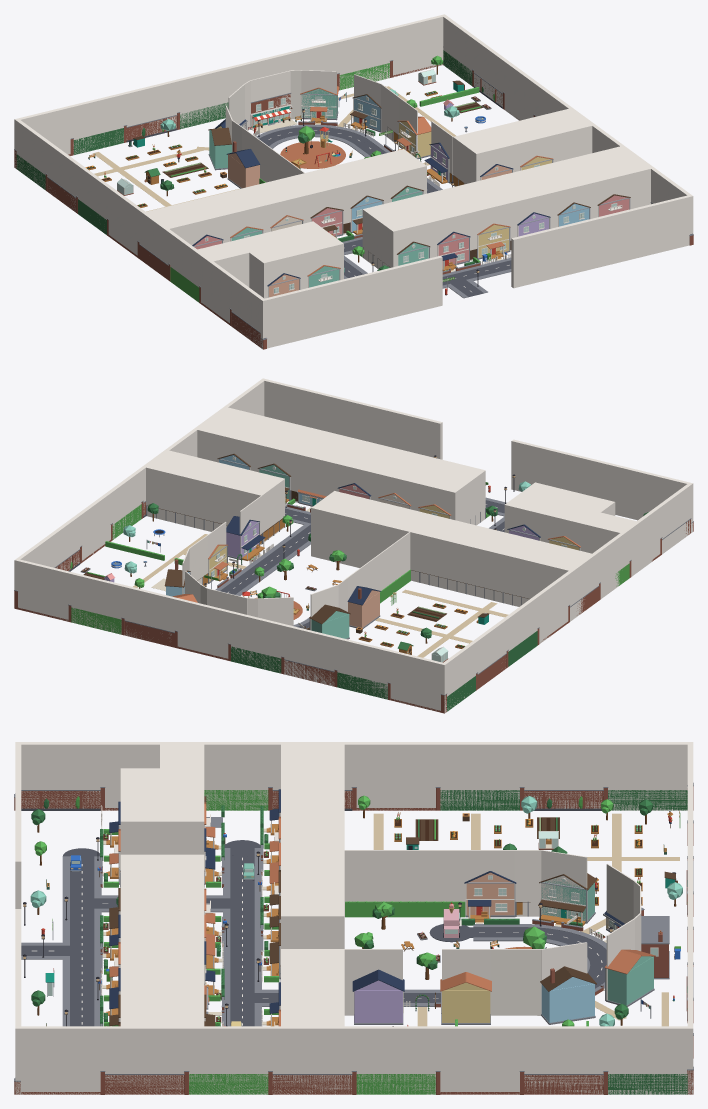
File: CatCafe_Neighbourhood_SetV32.glb
3 renders of one model, top to bottom at view 1: azimuth 30°, elevation 25°; view 2: azimuth 150°, elevation 25°; view 3: azimuth 270°, elevation 25°, orthographic. The views are drawn at different scales.
Visible parts, largest first — view 1: CatCafe_Neighbourhood_SetV32_053_Walls_Barrier, CatCafe_Neighbourhood_SetV32_358_Blocks_Barrier, CatCafe_Neighbourhood_SetV32, CatCafe_Neighbourhood_SetV32_220_HouseFrontA, CatCafe_Neighbourhood_SetV32_226_HouseFrontC, CatCafe_Neighbourhood_SetV32_214_HouseFrontC, CatCafe_Neighbourhood_SetV32_229_CornerShop, CatCafe_Neighbourhood_SetV32_064_HouseFrontC, CatCafe_Neighbourhood_SetV32_067_HouseFrontA, CatCafe_Neighbourhood_SetV32_223_HouseFrontA, CatCafe_Neighbourhood_SetV32_357_Trees, CatCafe_Neighbourhood_SetV32_236_HouseFrontB (+13 smaller); view 2: CatCafe_Neighbourhood_SetV32_358_Blocks_Barrier, CatCafe_Neighbourhood_SetV32_053_Walls_Barrier, CatCafe_Neighbourhood_SetV32, CatCafe_Neighbourhood_SetV32_211_HouseFrontB, CatCafe_Neighbourhood_SetV32_220_HouseFrontA, CatCafe_Neighbourhood_SetV32_236_HouseFrontB, CatCafe_Neighbourhood_SetV32_357_Trees, CatCafe_Neighbourhood_SetV32_004_WallBrick, CatCafe_Neighbourhood_SetV32_002_WallHedge, CatCafe_Neighbourhood_SetV32_012_WallHedge, CatCafe_Neighbourhood_SetV32_008_WallHedge, CatCafe_Neighbourhood_SetV32_010_WallBrick (+2 smaller); view 3: CatCafe_Neighbourhood_SetV32_053_Walls_Barrier, CatCafe_Neighbourhood_SetV32_358_Blocks_Barrier, CatCafe_Neighbourhood_SetV32, CatCafe_Neighbourhood_SetV32_223_HouseFrontA, CatCafe_Neighbourhood_SetV32_211_HouseFrontB, CatCafe_Neighbourhood_SetV32_214_HouseFrontC, CatCafe_Neighbourhood_SetV32_357_Trees, CatCafe_Neighbourhood_SetV32_226_HouseFrontC, CatCafe_Neighbourhood_SetV32_236_HouseFrontB, CatCafe_Neighbourhood_SetV32_220_HouseFrontA, CatCafe_Neighbourhood_SetV32_038_WallBrick, CatCafe_Neighbourhood_SetV32_040_WallHedge (+11 smaller).
Part boxes in pixels (x1=…): CatCafe_Neighbourhood_SetV32_053_Walls_Barrier: x1=14, y1=14, x2=693, y2=349; CatCafe_Neighbourhood_SetV32_358_Blocks_Barrier: x1=146, y1=70, x2=650, y2=298; CatCafe_Neighbourhood_SetV32: x1=93, y1=86, x2=511, y2=298; CatCafe_Neighbourhood_SetV32_220_HouseFrontA: x1=226, y1=141, x2=260, y2=188; CatCafe_Neighbourhood_SetV32_226_HouseFrontC: x1=300, y1=86, x2=339, y2=123; CatCafe_Neighbourhood_SetV32_214_HouseFrontC: x1=397, y1=116, x2=431, y2=159; CatCafe_Neighbourhood_SetV32_229_CornerShop: x1=250, y1=93, x2=292, y2=129; CatCafe_Neighbourhood_SetV32_064_HouseFrontC: x1=477, y1=223, x2=510, y2=259; CatCafe_Neighbourhood_SetV32_067_HouseFrontA: x1=437, y1=231, x2=470, y2=270; CatCafe_Neighbourhood_SetV32_223_HouseFrontA: x1=350, y1=94, x2=381, y2=132; CatCafe_Neighbourhood_SetV32_357_Trees: x1=160, y1=55, x2=459, y2=272; CatCafe_Neighbourhood_SetV32_236_HouseFrontB: x1=208, y1=127, x2=232, y2=170; CatCafe_Neighbourhood_SetV32_358_Blocks_Barrier: x1=146, y1=407, x2=636, y2=625; CatCafe_Neighbourhood_SetV32_053_Walls_Barrier: x1=14, y1=378, x2=693, y2=713; CatCafe_Neighbourhood_SetV32: x1=83, y1=484, x2=508, y2=657; CatCafe_Neighbourhood_SetV32_211_HouseFrontB: x1=226, y1=516, x2=265, y2=560; CatCafe_Neighbourhood_SetV32_220_HouseFrontA: x1=347, y1=586, x2=381, y2=628; CatCafe_Neighbourhood_SetV32_236_HouseFrontB: x1=306, y1=604, x2=350, y2=639; CatCafe_Neighbourhood_SetV32_357_Trees: x1=123, y1=481, x2=648, y2=643; CatCafe_Neighbourhood_SetV32_004_WallBrick: x1=124, y1=620, x2=174, y2=647; CatCafe_Neighbourhood_SetV32_002_WallHedge: x1=71, y1=607, x2=121, y2=634; CatCafe_Neighbourhood_SetV32_012_WallHedge: x1=337, y1=672, x2=387, y2=699; CatCafe_Neighbourhood_SetV32_008_WallHedge: x1=231, y1=646, x2=281, y2=673; CatCafe_Neighbourhood_SetV32_010_WallBrick: x1=284, y1=659, x2=334, y2=686; CatCafe_Neighbourhood_SetV32_053_Walls_Barrier: x1=15, y1=742, x2=693, y2=1094; CatCafe_Neighbourhood_SetV32_358_Blocks_Barrier: x1=120, y1=744, x2=641, y2=1026; CatCafe_Neighbourhood_SetV32: x1=21, y1=813, x2=679, y2=1026; CatCafe_Neighbourhood_SetV32_223_HouseFrontA: x1=540, y1=966, x2=596, y2=1024; CatCafe_Neighbourhood_SetV32_211_HouseFrontB: x1=352, y1=969, x2=404, y2=1024; CatCafe_Neighbourhood_SetV32_214_HouseFrontC: x1=440, y1=972, x2=491, y2=1024; CatCafe_Neighbourhood_SetV32_357_Trees: x1=30, y1=795, x2=682, y2=1026; CatCafe_Neighbourhood_SetV32_226_HouseFrontC: x1=604, y1=949, x2=655, y2=1006; CatCafe_Neighbourhood_SetV32_236_HouseFrontB: x1=538, y1=873, x2=596, y2=926; CatCafe_Neighbourhood_SetV32_220_HouseFrontA: x1=464, y1=871, x2=516, y2=922; CatCafe_Neighbourhood_SetV32_038_WallBrick: x1=272, y1=1074, x2=352, y2=1094; CatCafe_Neighbourhood_SetV32_040_WallHedge: x1=189, y1=1074, x2=268, y2=1094.
Size of the model in its own units: 280 by 30.05 by 280.
Materials: 1 (1 with a texture image).
